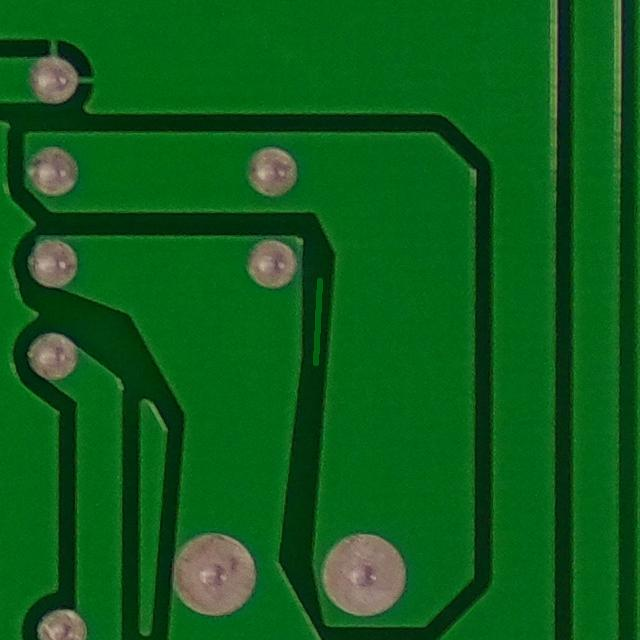spurious_copper: (298, 270, 342, 370)
